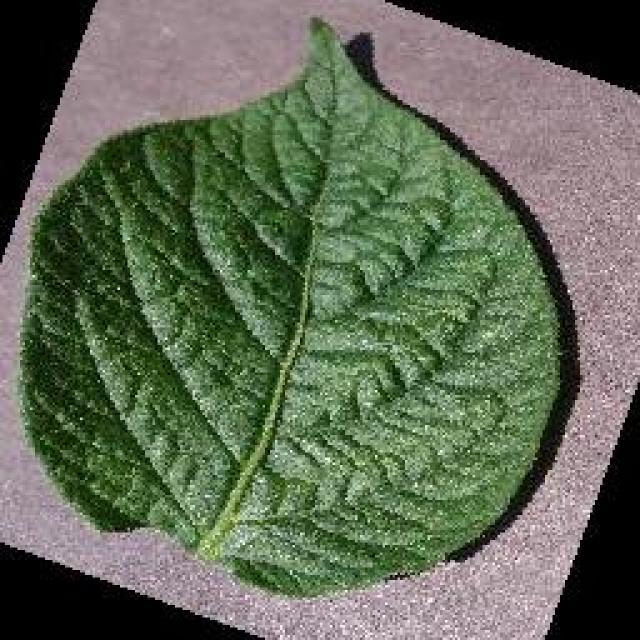Potato___healthy: (18, 23, 562, 601)
